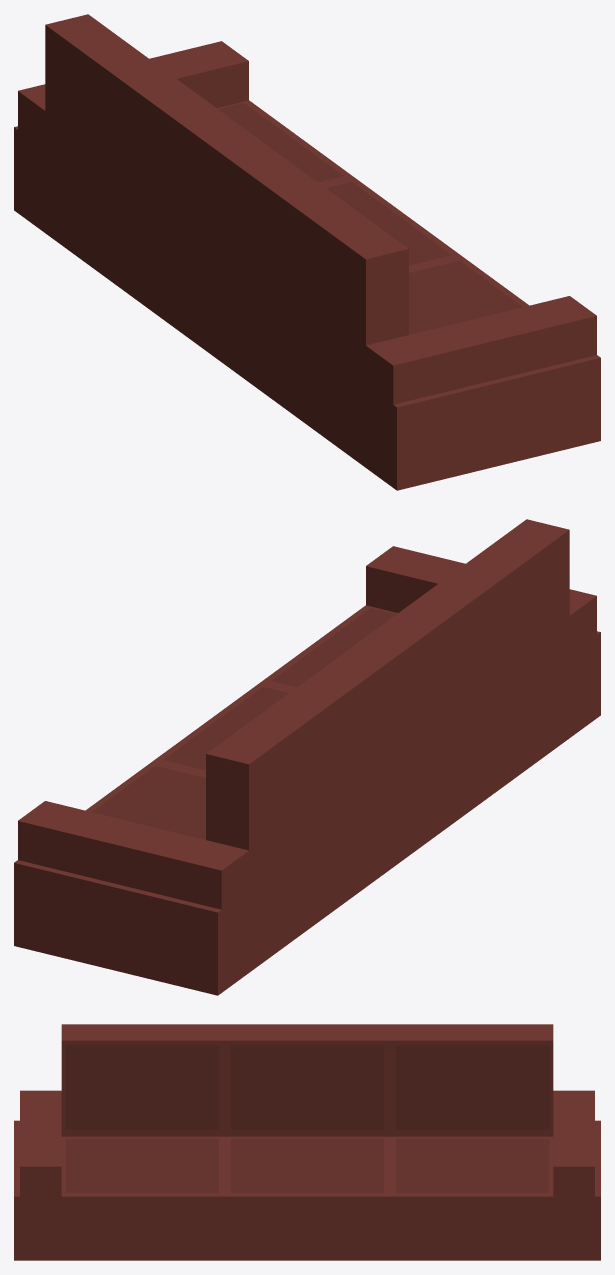
The model's file is couch2.fbx.
3 renders of one model, top to bottom at view 1: azimuth 30°, elevation 25°; view 2: azimuth 150°, elevation 25°; view 3: azimuth 270°, elevation 25°, orthographic. The views are drawn at different scales.
Visible parts, largest first — view 1: couch2; view 2: couch2; view 3: couch2.
Boxes of the visible parts, box(x1,y1,x2,y2) form: couch2: box(14, 14, 600, 490); couch2: box(14, 519, 600, 995); couch2: box(14, 1024, 600, 1260).
Size of the model in its own units: 257 by 251 by 835.
